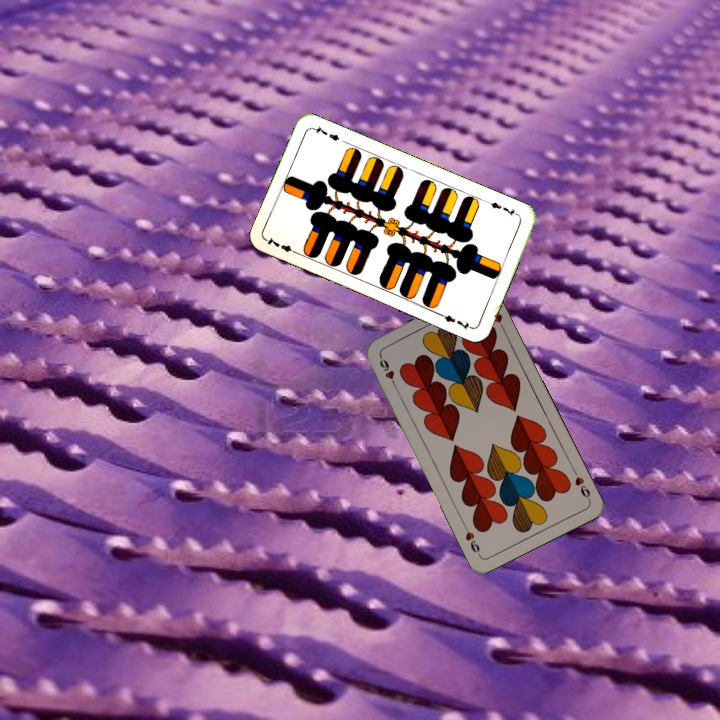E7: (262, 234, 301, 257), (483, 197, 522, 219)
H9: (375, 351, 399, 390), (569, 465, 593, 503)
